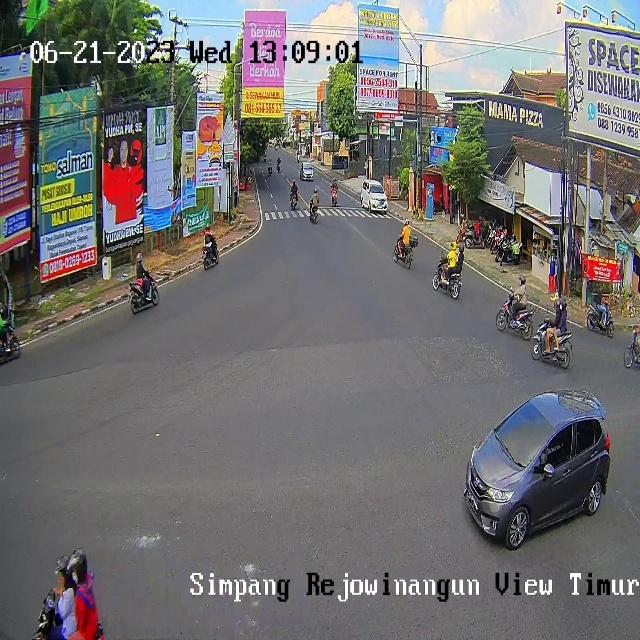bus: (32, 587, 104, 640), (531, 316, 573, 370), (495, 291, 536, 341), (128, 270, 159, 314), (433, 255, 461, 300), (587, 301, 615, 338), (0, 321, 22, 365), (623, 327, 640, 369), (393, 234, 411, 268), (202, 234, 219, 269), (310, 199, 318, 223), (331, 187, 338, 206), (291, 194, 298, 210)
motorcycle: (465, 391, 611, 551), (360, 179, 388, 213), (300, 161, 314, 181)
